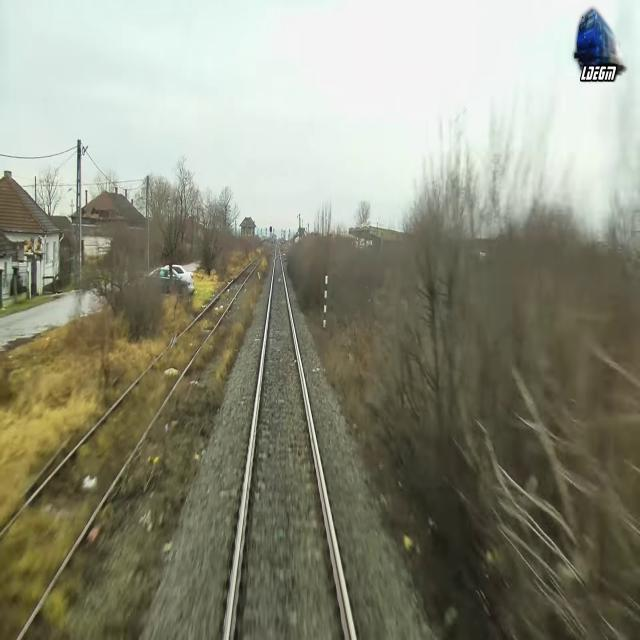rail-track: (0, 254, 262, 639), (229, 256, 351, 639), (279, 243, 285, 253), (275, 242, 279, 256)
